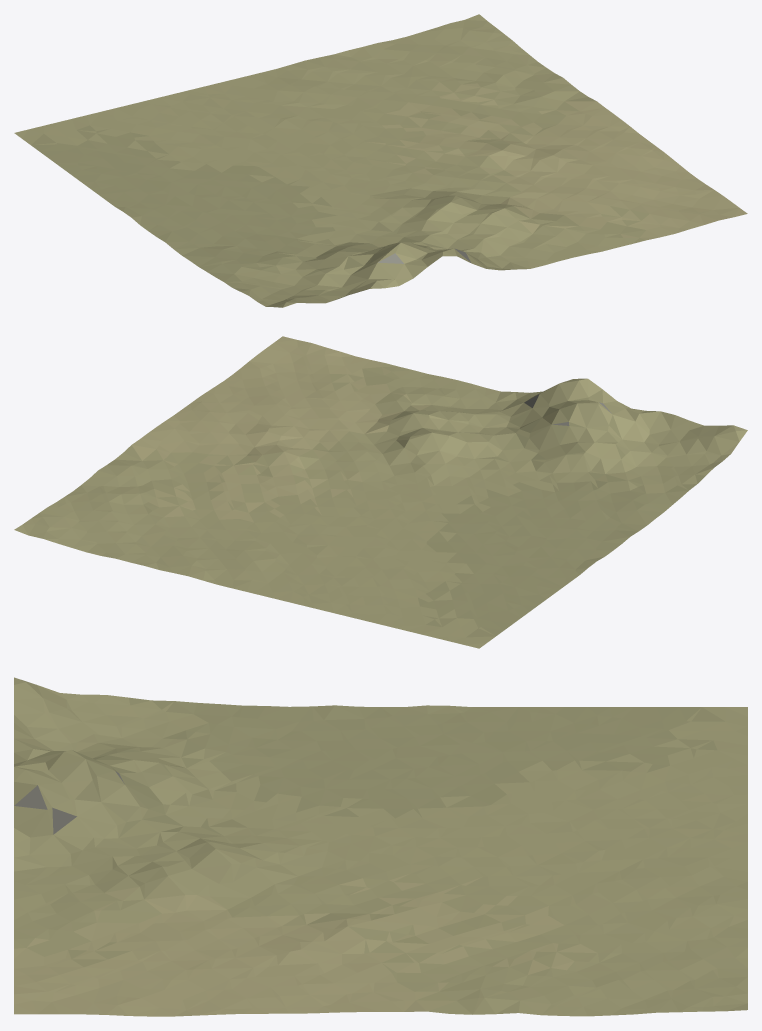
File: Ground_2_-7.glb
3 renders of one model, top to bottom at view 1: azimuth 30°, elevation 25°; view 2: azimuth 150°, elevation 25°; view 3: azimuth 270°, elevation 25°, orthographic. The views are drawn at different scales.
Parts seen in each view (by area): view 1: Ground_2_-7; view 2: Ground_2_-7; view 3: Ground_2_-7.
Part boxes in pixels (x1=…): Ground_2_-7: x1=14, y1=14, x2=747, y2=307; Ground_2_-7: x1=14, y1=336, x2=747, y2=648; Ground_2_-7: x1=14, y1=677, x2=747, y2=1016.
Bounding box in the file's own units: 768 × 54.37 × 768.
